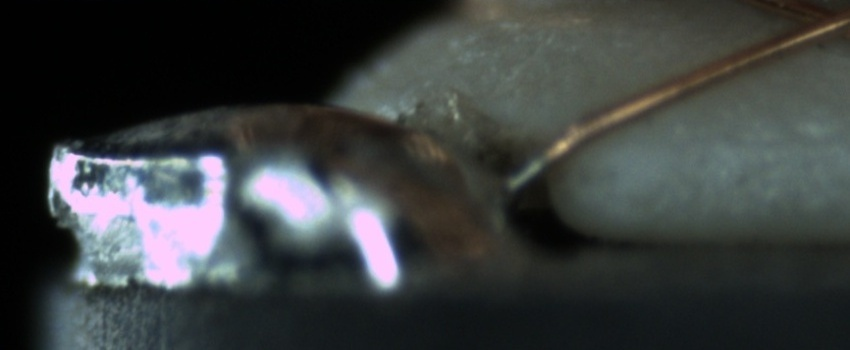CL: (761, 1, 849, 56)
DL: (687, 112, 850, 168)
TS: (506, 149, 552, 192)
